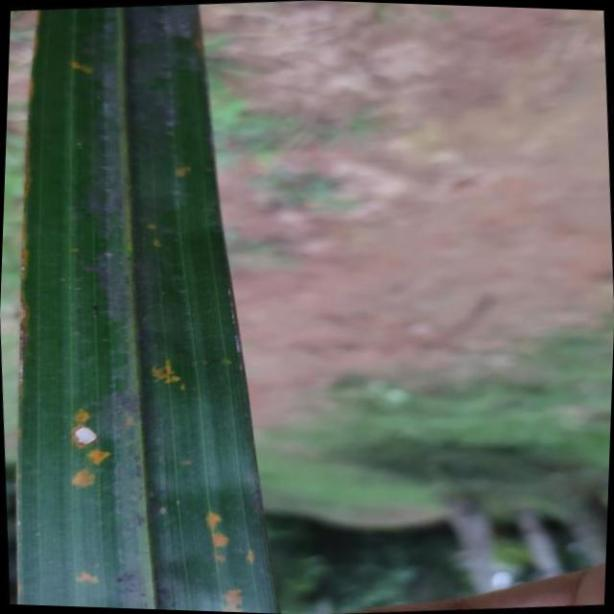Kalium: (11, 0, 278, 614)
